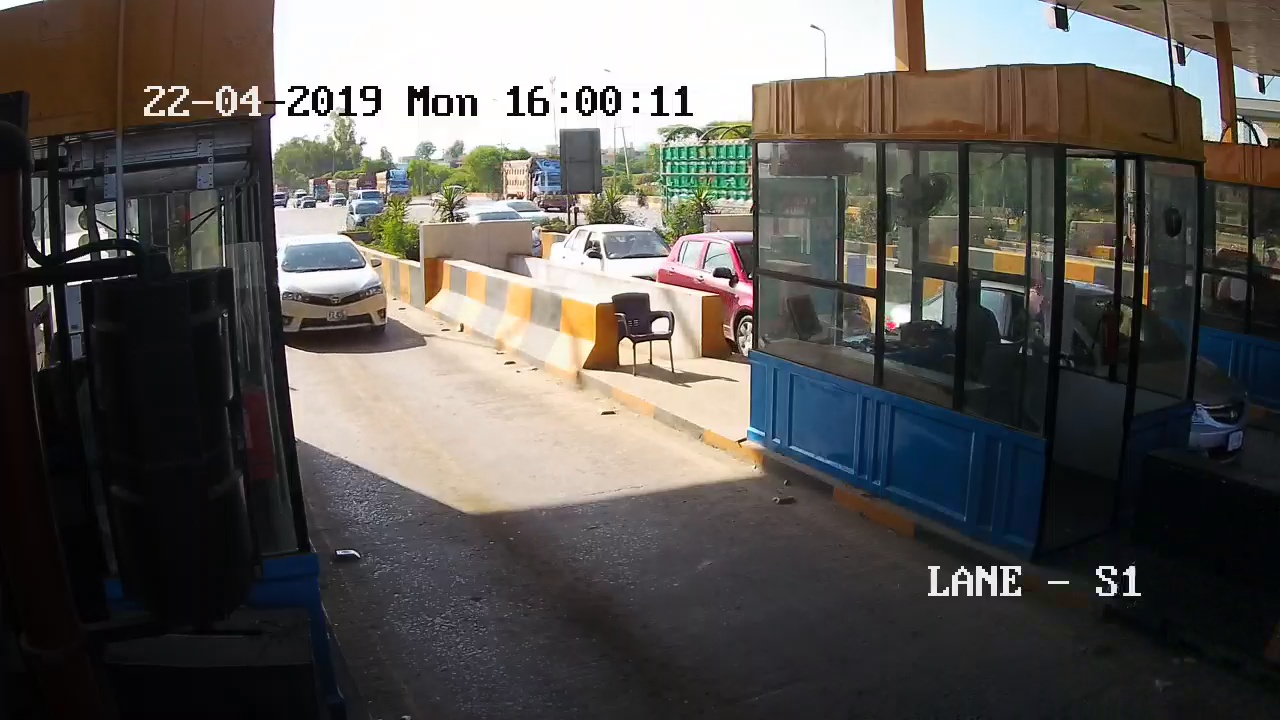car: (279, 231, 397, 346)
